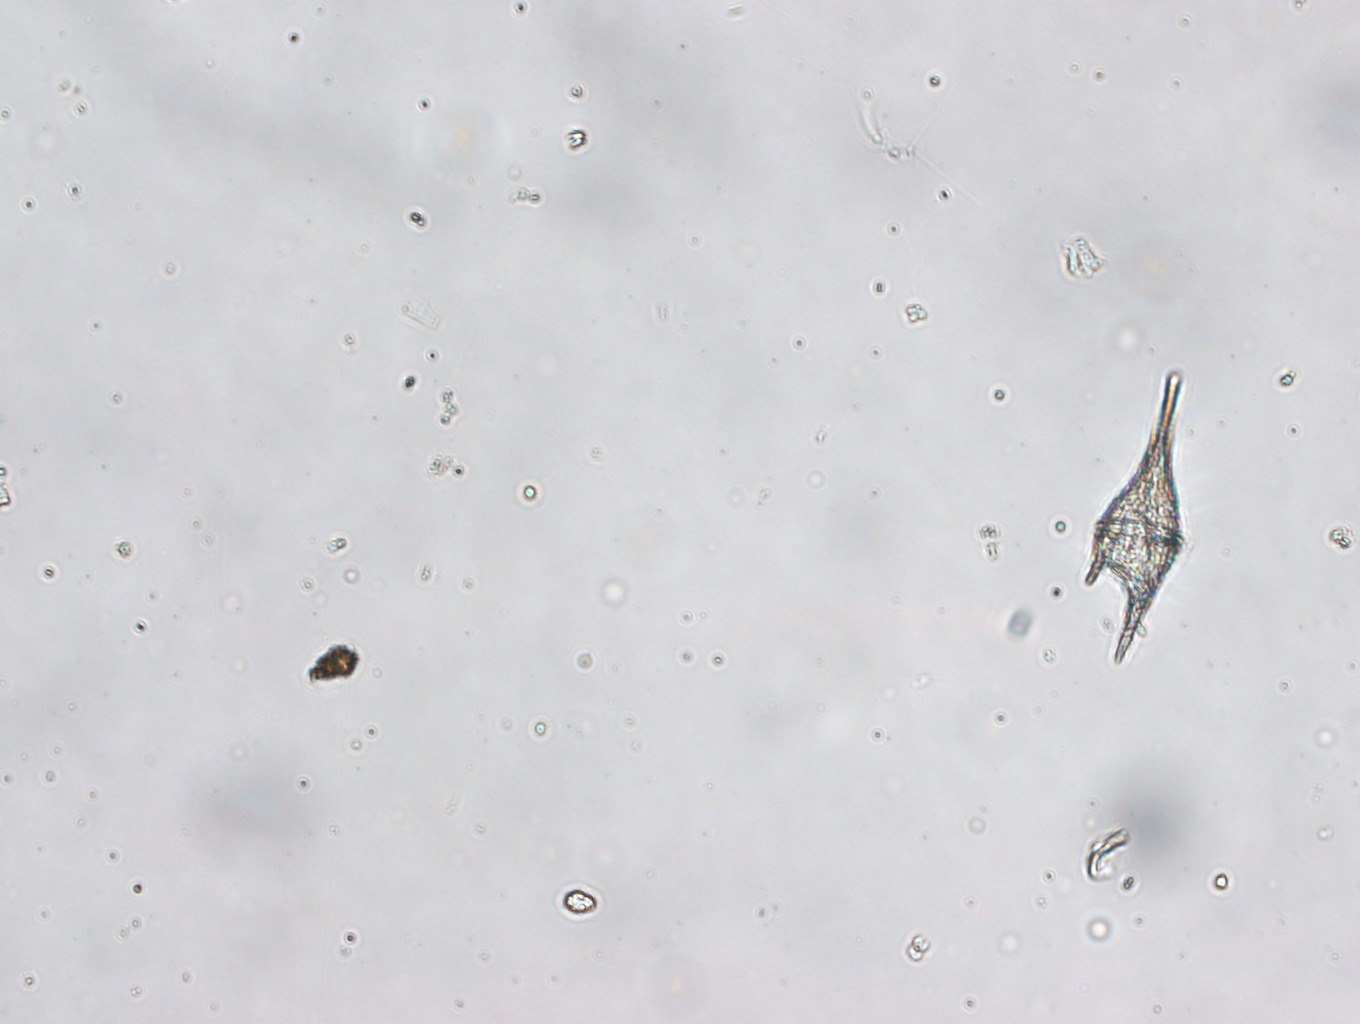ceratium furca: (1077, 366, 1194, 662)
